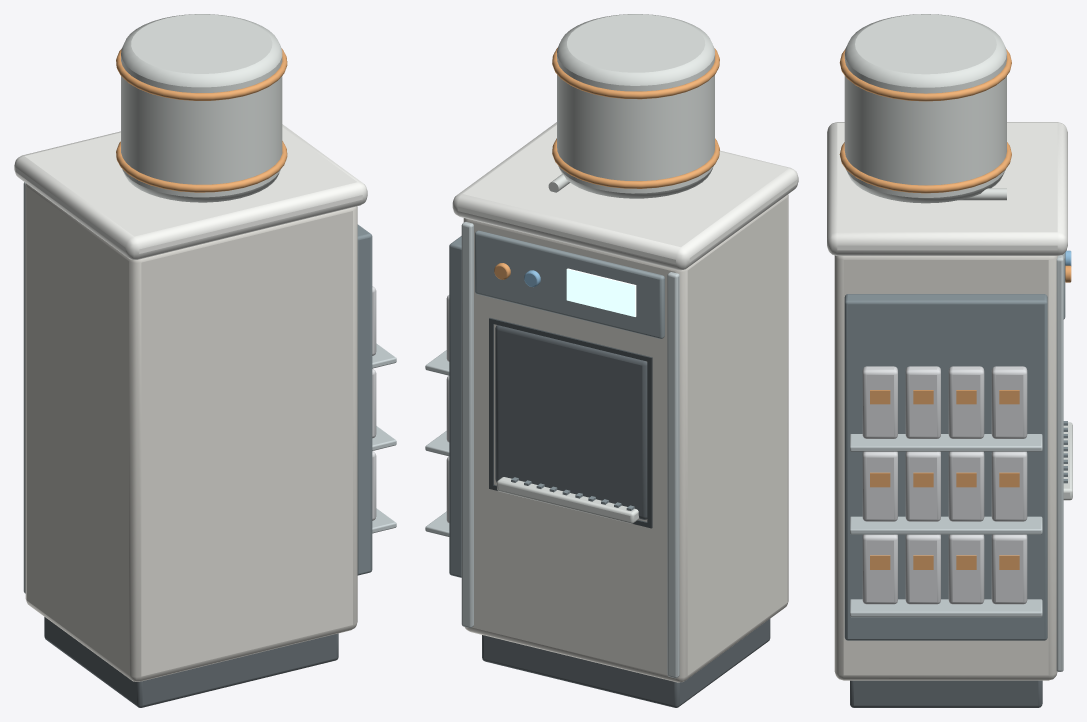
File: galley_rehydration_station.glb
The picture shows the model from 3 angles, left to right: view 1: azimuth 30°, elevation 25°; view 2: azimuth 150°, elevation 25°; view 3: azimuth 270°, elevation 25°; orthographic projection. The views are drawn at different scales.
Visible parts, largest first — view 1: station_body_warm_shell, hot_tank_satin_steel, station_cap_white_painted, station_plinth_graphite, pouch_rack_dark_alloy, hot_tank_bands_orange, station_rails_alloy, pouch_shelves_alloy, food_pouches_pouch_silver; view 2: station_body_warm_shell, hot_tank_satin_steel, recess_graphite, station_cap_white_painted, station_rails_alloy, control_panel_slate_panel, station_plinth_graphite, pouch_rack_dark_alloy, hot_tank_bands_orange, recess_trim_black_rubber, display_screen_cyan, drip_tray_satin_steel (+2 smaller); view 3: pouch_rack_dark_alloy, food_pouches_pouch_silver, hot_tank_satin_steel, station_body_warm_shell, station_cap_white_painted, pouch_shelves_alloy, station_plinth_graphite, pouch_labels_orange, hot_tank_bands_orange, station_rails_alloy, drip_tray_satin_steel, hot_pipe_satin_steel.
Part boxes in pixels (x1,y1,x2,y2): station_body_warm_shell: [25, 183, 357, 681]; hot_tank_satin_steel: [121, 14, 282, 202]; station_cap_white_painted: [14, 124, 367, 259]; station_plinth_graphite: [44, 617, 338, 707]; pouch_rack_dark_alloy: [357, 224, 372, 575]; hot_tank_bands_orange: [116, 48, 287, 192]; station_rails_alloy: [23, 182, 25, 593]; pouch_shelves_alloy: [372, 343, 396, 533]; food_pouches_pouch_silver: [372, 286, 376, 520]; station_body_warm_shell: [463, 194, 788, 682]; hot_tank_satin_steel: [557, 14, 714, 198]; recess_graphite: [495, 325, 647, 519]; station_cap_white_painted: [452, 122, 798, 270]; station_rails_alloy: [461, 221, 679, 678]; control_panel_slate_panel: [475, 230, 664, 338]; station_plinth_graphite: [482, 619, 770, 707]; pouch_rack_dark_alloy: [449, 236, 461, 577]; hot_tank_bands_orange: [552, 47, 719, 188]; recess_trim_black_rubber: [489, 318, 652, 528]; display_screen_cyan: [566, 268, 636, 316]; drip_tray_satin_steel: [497, 477, 639, 523]; pouch_rack_dark_alloy: [844, 294, 1047, 640]; food_pouches_pouch_silver: [862, 366, 1027, 604]; hot_tank_satin_steel: [844, 14, 1006, 203]; station_body_warm_shell: [834, 255, 1057, 680]; station_cap_white_painted: [827, 122, 1067, 255]; pouch_shelves_alloy: [850, 434, 1042, 617]; station_plinth_graphite: [850, 680, 1042, 707]; pouch_labels_orange: [870, 390, 1019, 569]; hot_tank_bands_orange: [839, 49, 1011, 193]; station_rails_alloy: [1056, 255, 1063, 671]; drip_tray_satin_steel: [1063, 422, 1072, 500]; hot_pipe_satin_steel: [959, 188, 1006, 200].
Size of the model in its own units: 0.635 by 1.34 by 0.485.
